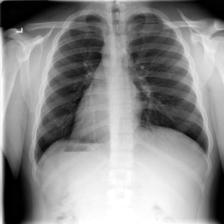normal: (32, 7, 214, 180)
